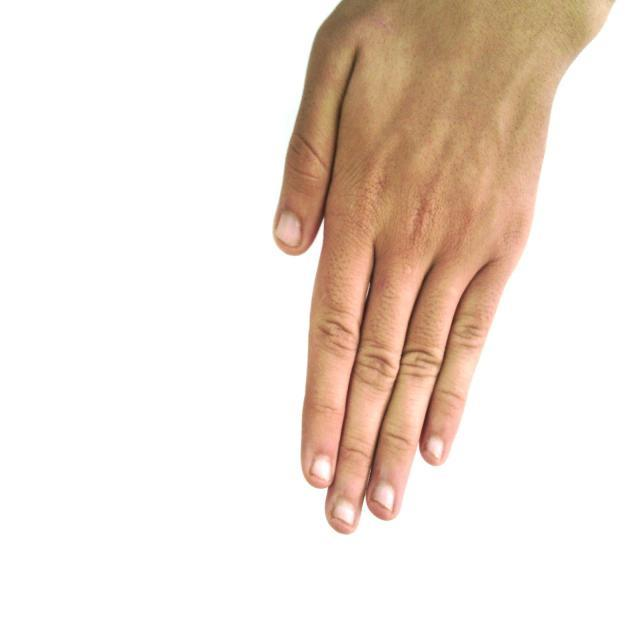Fingernail: (277, 211, 302, 246), (374, 484, 395, 508), (333, 502, 355, 524), (311, 457, 330, 481), (426, 436, 442, 459)
